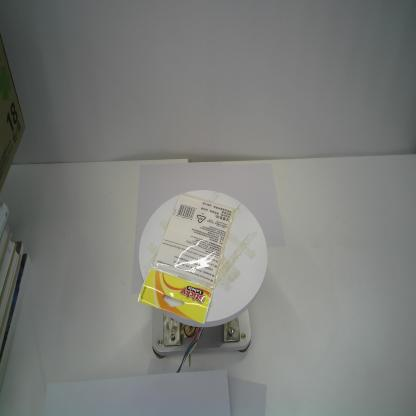Stationery: (136, 192, 235, 326)
